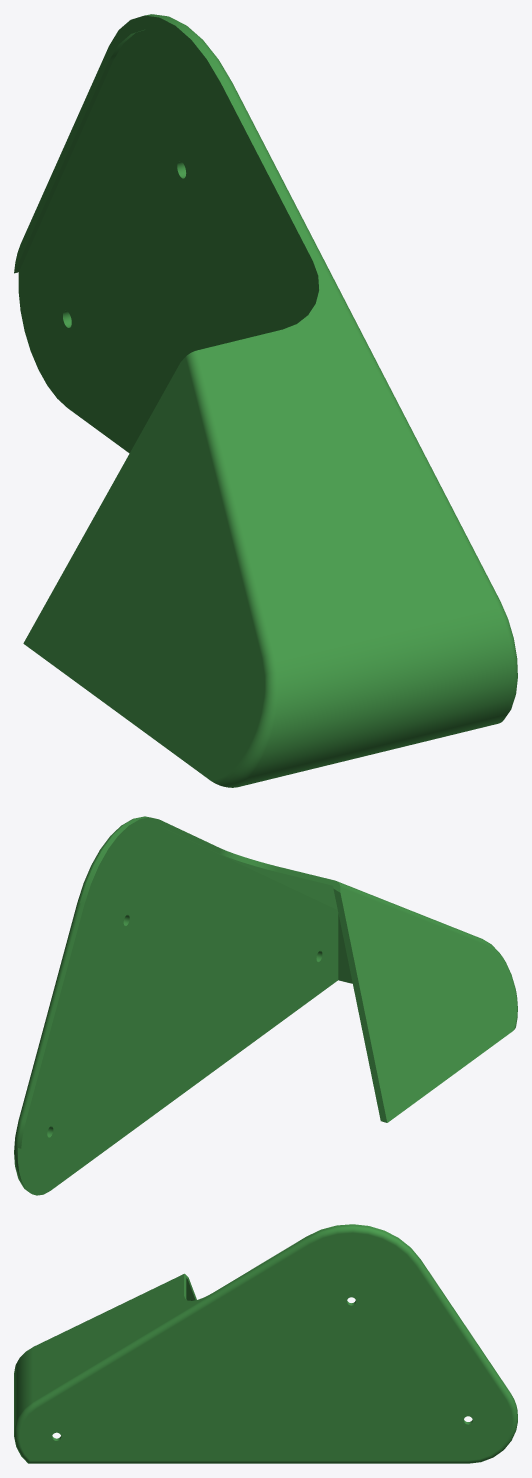
File: FootCoverLeft.dae
3 views of the same model, one above another, from view 1: azimuth 30°, elevation 25°; view 2: azimuth 150°, elevation 25°; view 3: azimuth 270°, elevation 25° (orthographic). The views are drawn at different scales.
Parts seen in each view (by area): view 1: FootCoverLeft; view 2: FootCoverLeft; view 3: FootCoverLeft.
Boxes of the visible parts, x1=… form: FootCoverLeft: x1=14, y1=14, x2=517, y2=787; FootCoverLeft: x1=14, y1=816, x2=517, y2=1195; FootCoverLeft: x1=14, y1=1224, x2=517, y2=1463.
Size of the model in its own units: 0.0587 by 0.1768 by 0.0921.
